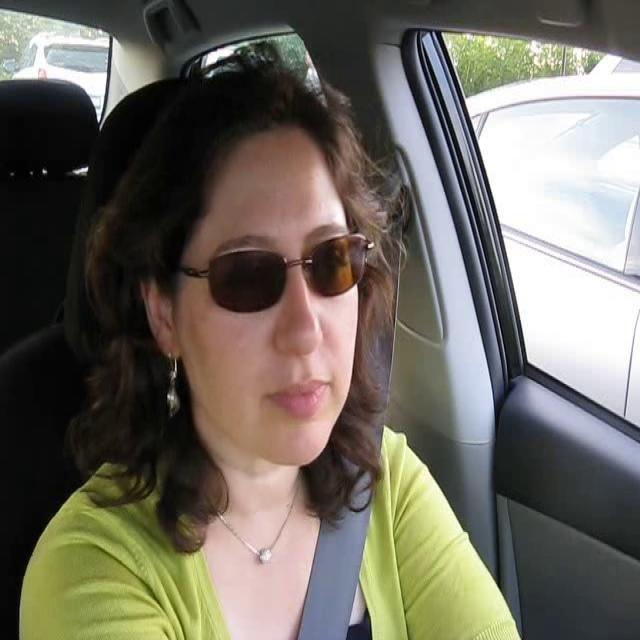close: (262, 377, 332, 417)
